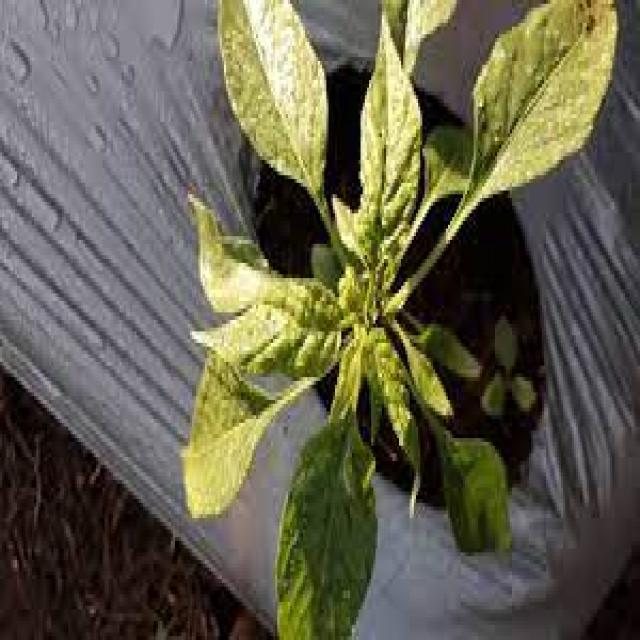virus_kuning: (182, 197, 347, 386), (215, 5, 335, 222), (356, 30, 431, 291), (170, 365, 280, 519)
